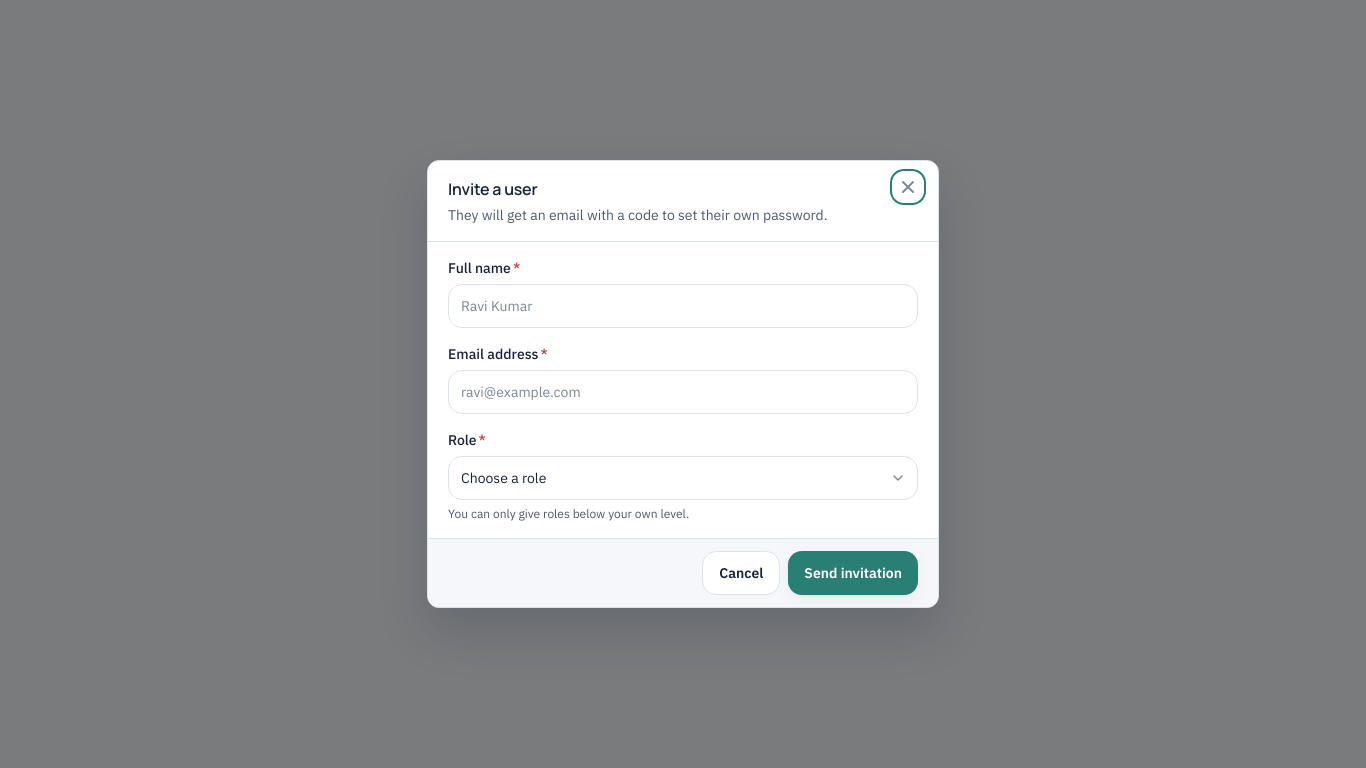
Scenario: InviteUserModal › will not submit without a name, an email and a role
Click the button "Send invitation" at (853, 573), box [788,551,918,595]
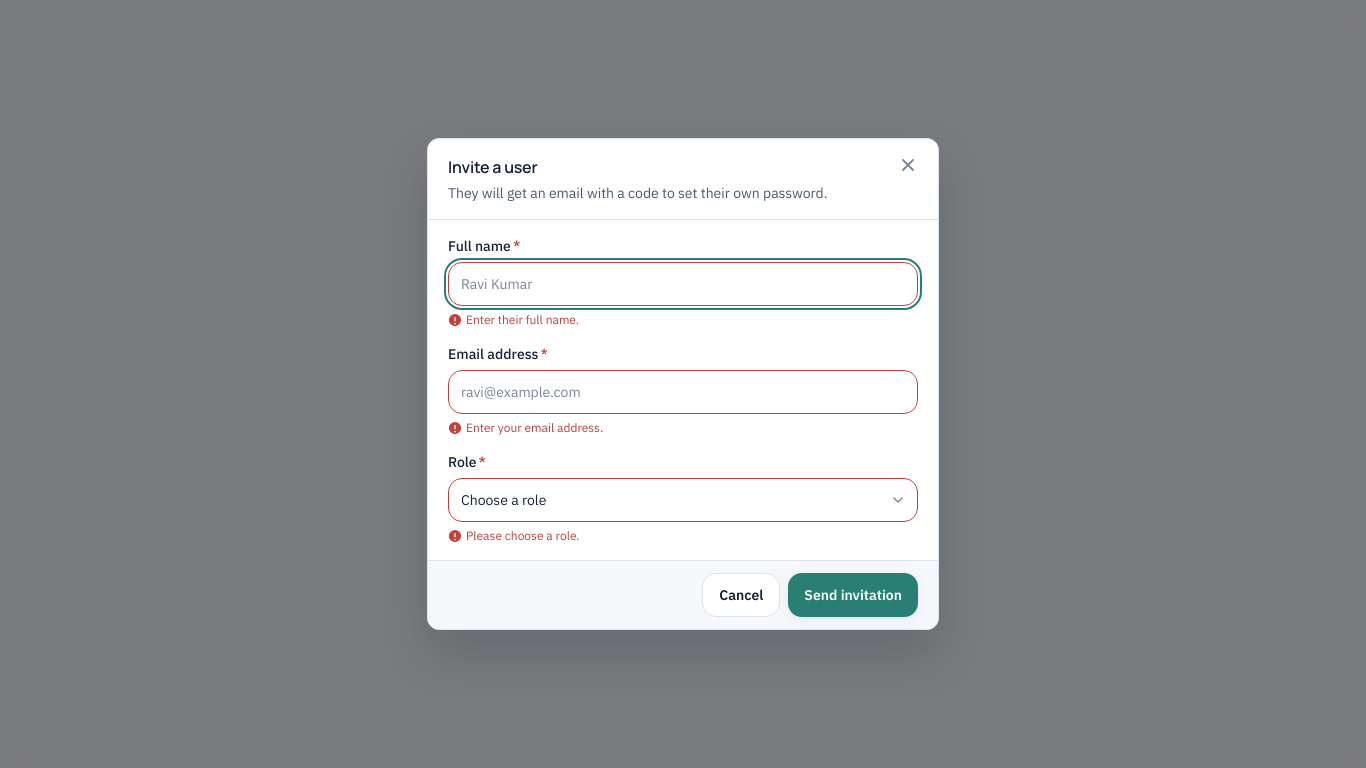
Check: the text "Enter their full name." is shown, box [448,312,579,327]
Check: the text "Enter your email address." is shown, box [448,420,603,435]
Check: the text "Please choose a role." is shown, box [448,528,580,543]
